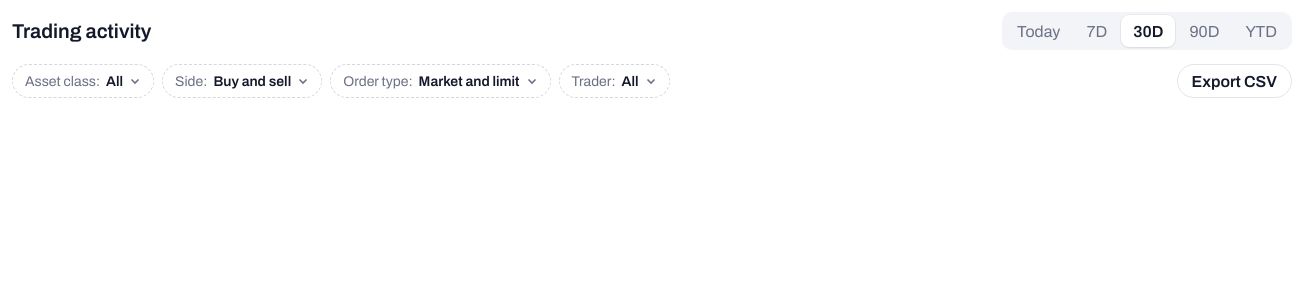
it: AnalyticsFiltersComponent › offers the traders from the store in the trader chip
This screenshot has width=1304, height=304.
Click the button with class "chip" showing "Trader: All": click(614, 81) x1=558 y1=64 x2=670 y2=98
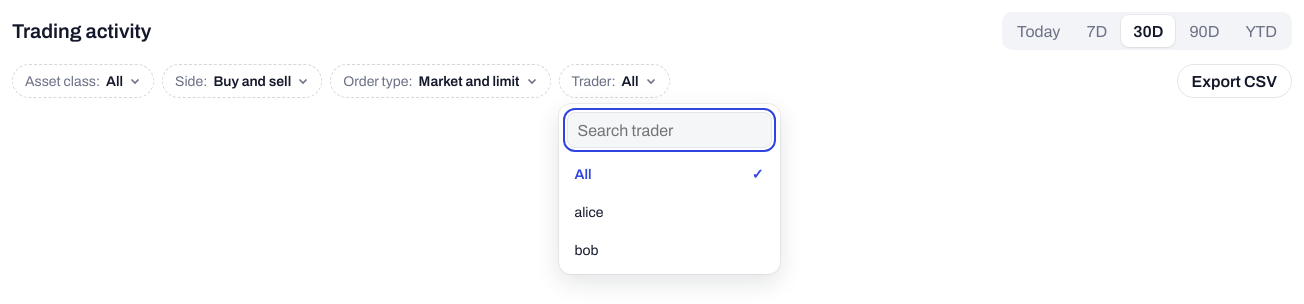
Now the menu item "alice" is shown, box x1=564 y1=194 x2=774 y2=230
Now the menu item "bob" is shown, box x1=564 y1=232 x2=774 y2=268
